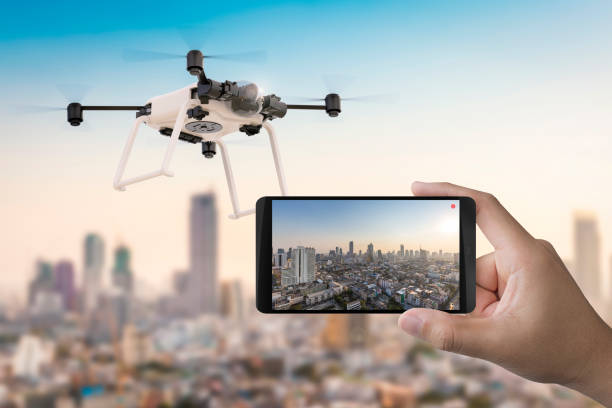Drone: (29, 25, 404, 166)
